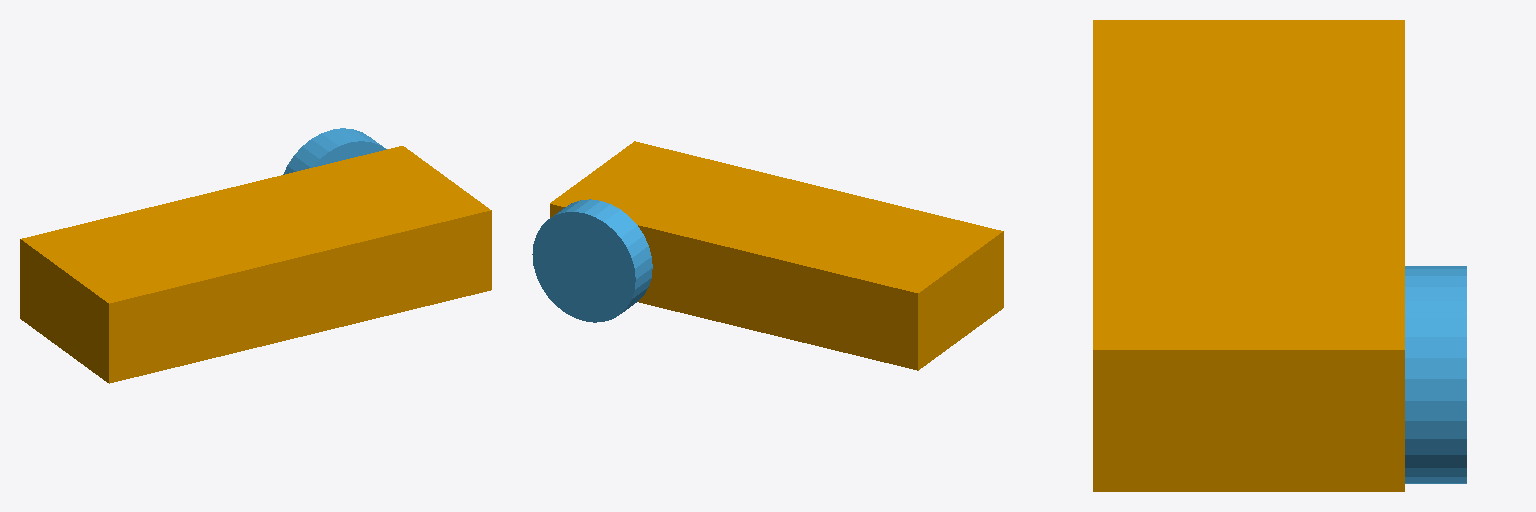
The robot description file, URDF, robot "primius":
<?xml version="1.0"?>
<robot name="primius">
    <link name="base_link">
        <visual>
        <geometry>
                <box size="0.5 0.2 0.1"/>
        </geometry>
        </visual>
    </link>
    <link name="wheel_front_right">
        <visual>
            <geometry>
                <cylinder radius="0.07" length="0.04"/>
            </geometry>
        </visual>
    </link>
    <joint name="base_link_wheel_front_right" type="fixed">
        <parent link="base_link"/>
        <child link="wheel_front_right"/>
        <origin xyz="0.18 0.12 0.0" rpy="1.57 0.0 0.0"/>
    </joint>
</robot>

--- Facts derived from the render (not from the file) ---
Views: 3 orthographic renders of the robot side by side, from view 1: azimuth 30°, elevation 25°; view 2: azimuth 150°, elevation 25°; view 3: azimuth 270°, elevation 25°.
Model primius with 2 links and 1 joints (1 fixed), rooted at base_link, posed all joints at 0.
Visible links, largest first — view 1: base_link, wheel_front_right; view 2: base_link, wheel_front_right; view 3: base_link, wheel_front_right.
Link boxes in pixels (bbox=[...]): base_link: bbox=[20, 146, 491, 383]; wheel_front_right: bbox=[283, 128, 386, 174]; base_link: bbox=[550, 141, 1003, 370]; wheel_front_right: bbox=[532, 199, 652, 322]; base_link: bbox=[1093, 20, 1404, 491]; wheel_front_right: bbox=[1405, 266, 1466, 483].
Size in the robot's own frame: 0.5 by 0.2401 by 0.14 metres.
Geometry: primitives only (box / cylinder / sphere), no mesh files.